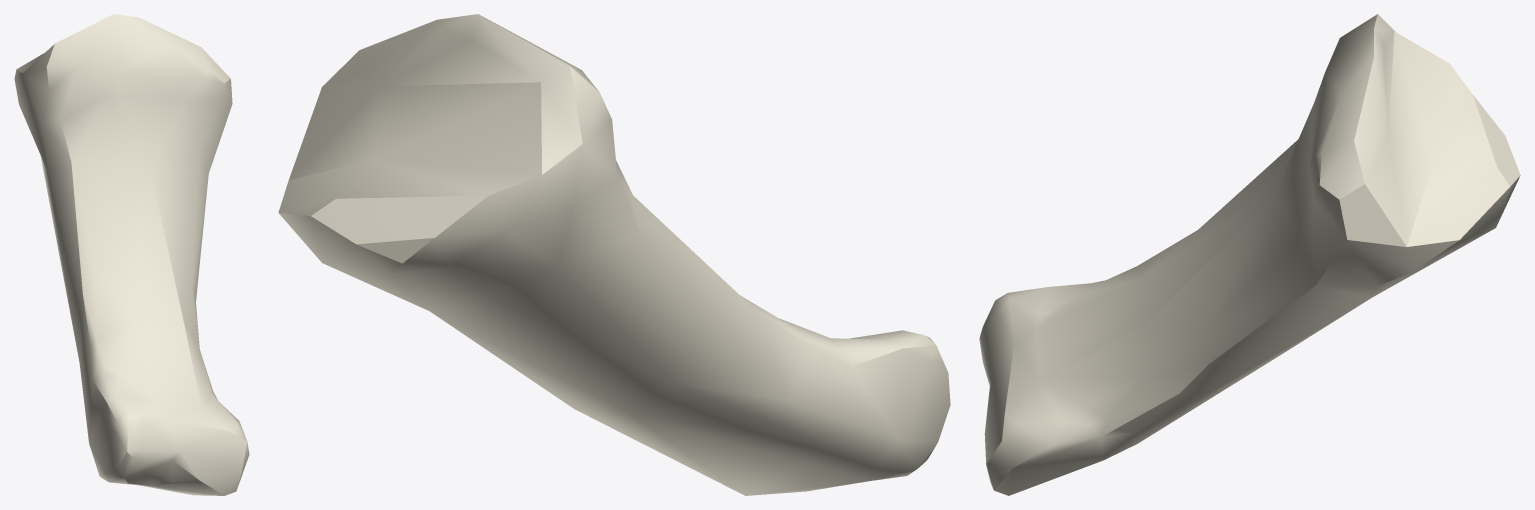
File: fma24455_fj3303.glb
3 renders of one model, left to right at view 1: azimuth 30°, elevation 25°; view 2: azimuth 150°, elevation 25°; view 3: azimuth 270°, elevation 25°, orthographic. The views are drawn at different scales.
Parts seen in each view (by area): view 1: FMA24455_FJ3303; view 2: FMA24455_FJ3303; view 3: FMA24455_FJ3303.
Boxes of the visible parts, bbox=[...] form: FMA24455_FJ3303: bbox=[14, 14, 249, 495]; FMA24455_FJ3303: bbox=[278, 14, 950, 495]; FMA24455_FJ3303: bbox=[979, 14, 1520, 495].
Size of the model in its own units: 0.0146 by 0.0205 by 0.0208.
